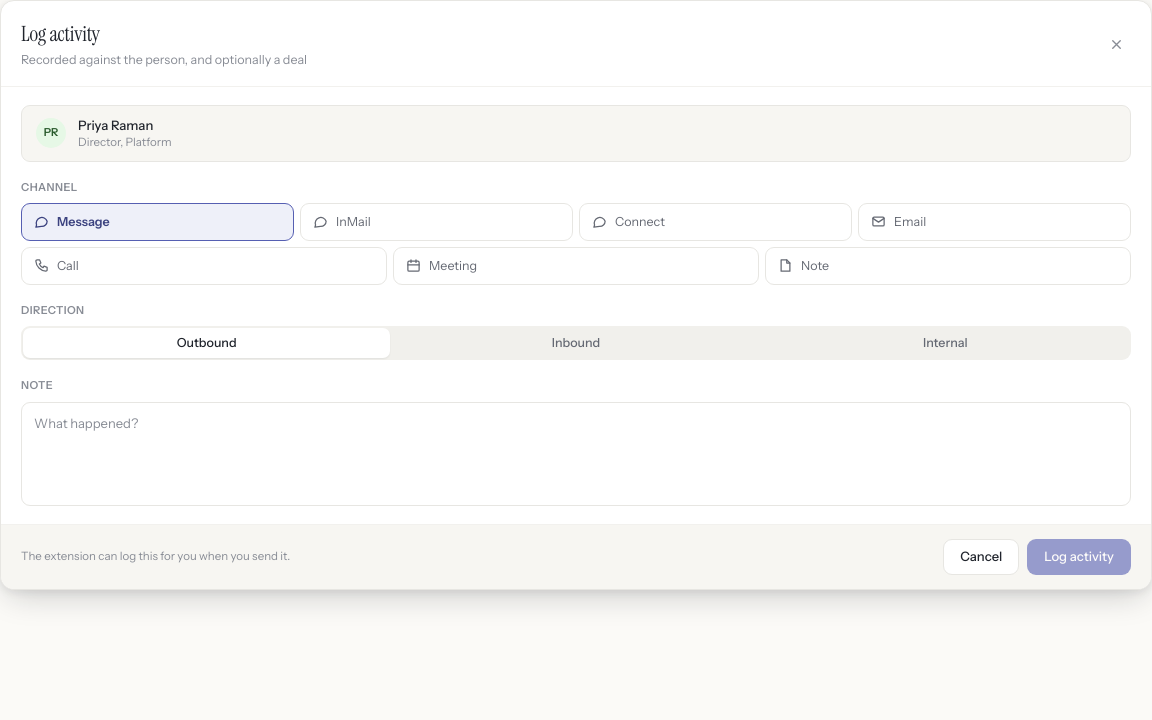
it: ActivityComposer › forces direction to internal when the channel is a note
Click the button "Note" at [786, 266], box left=765, top=247, right=1131, bottom=285
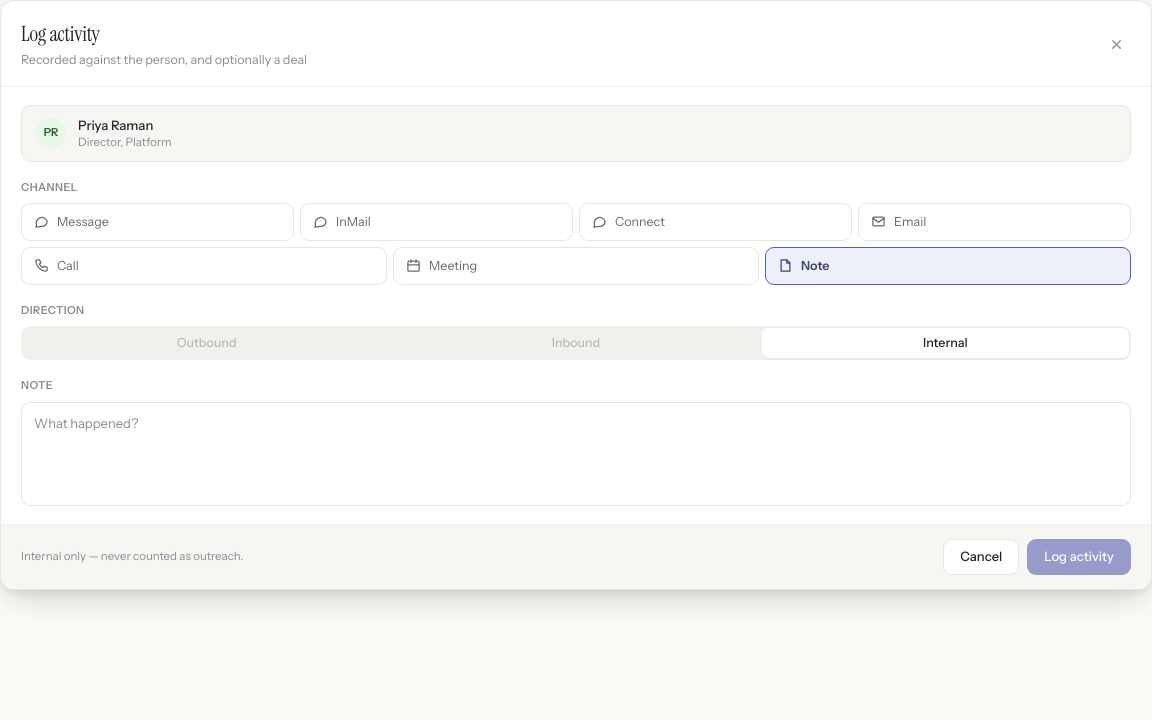
Expected: the button "Outbound" is disabled, left=23, top=328, right=390, bottom=358
